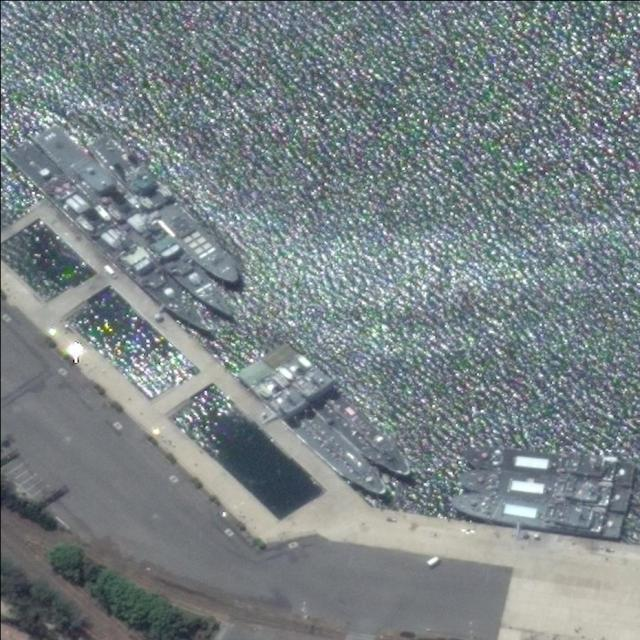Frigate: (36, 122, 248, 328), (8, 136, 218, 343)
Landing: (264, 335, 420, 485), (237, 354, 394, 503), (446, 484, 622, 541), (447, 460, 629, 511), (456, 440, 634, 482)
Other Warship: (85, 127, 248, 288)
